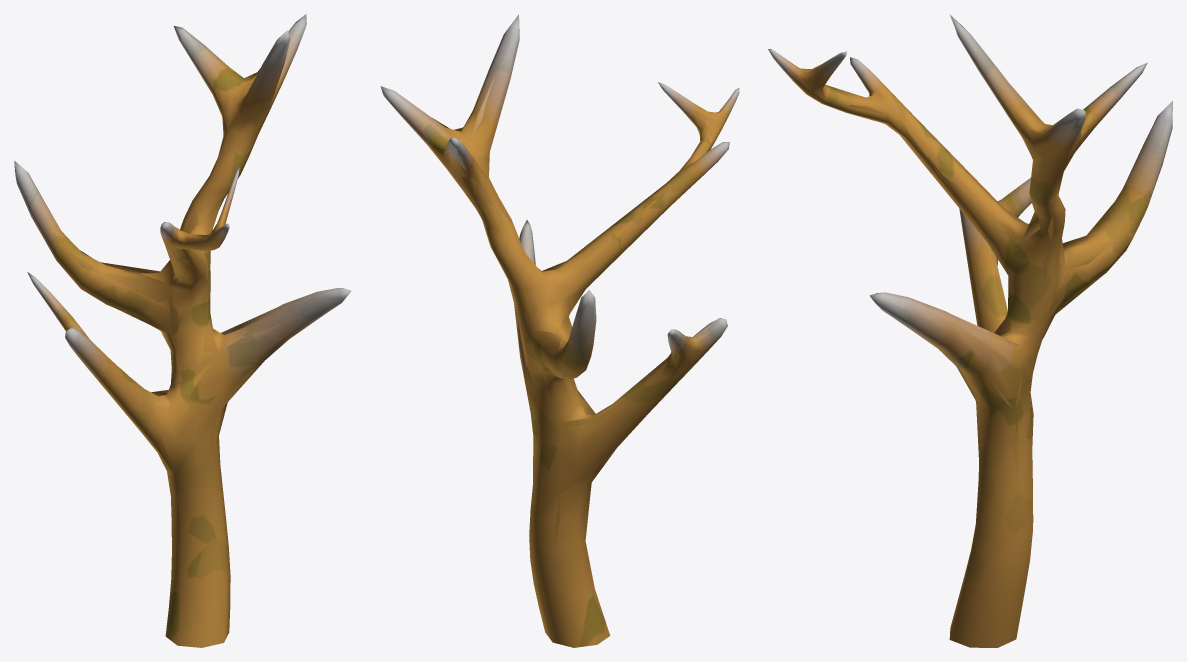
Rendered from 31-Staghorn.fbx.
The picture shows the model from 3 angles, left to right: view 1: azimuth 30°, elevation 25°; view 2: azimuth 150°, elevation 25°; view 3: azimuth 270°, elevation 25°; orthographic projection. The views are drawn at different scales.
Visible parts, largest first — view 1: 31-Staghorn_LOD00, 31-Staghorn_LOD00.001; view 2: 31-Staghorn_LOD00, 31-Staghorn_LOD00.001; view 3: 31-Staghorn_LOD00, 31-Staghorn_LOD00.001.
Part boxes in pixels (left/top/right/bottom): 31-Staghorn_LOD00: left=14, top=14, right=351, bottom=647; 31-Staghorn_LOD00.001: left=62, top=60, right=287, bottom=643; 31-Staghorn_LOD00: left=380, top=14, right=739, bottom=647; 31-Staghorn_LOD00.001: left=423, top=79, right=726, bottom=643; 31-Staghorn_LOD00: left=768, top=14, right=1172, bottom=647; 31-Staghorn_LOD00.001: left=802, top=64, right=1147, bottom=585.
Size of the model in its own units: 29.52 by 56.97 by 31.67.
